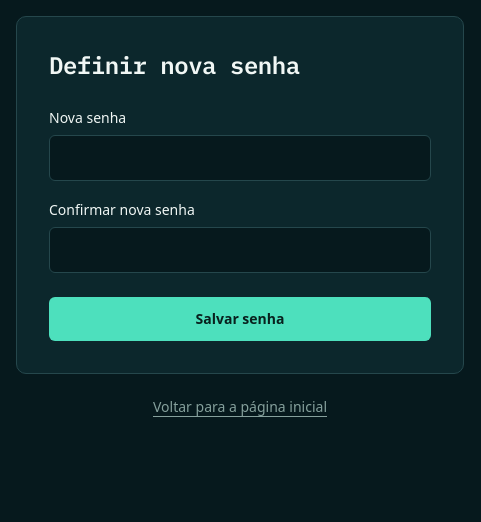
Test: ResetPassword › shows a generic error when the password update fails
The width and height of the screenshot is (481, 522).
Type "nova-senha-123" into the password field labelled "Nova senha" at (240, 158), box x1=49 y1=135 x2=431 y2=181
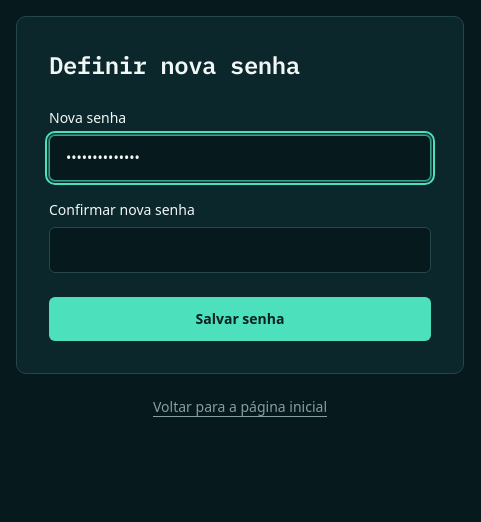
Type "nova-senha-123" into the password field labelled "Confirmar nova senha" at (240, 250), box x1=49 y1=227 x2=431 y2=273
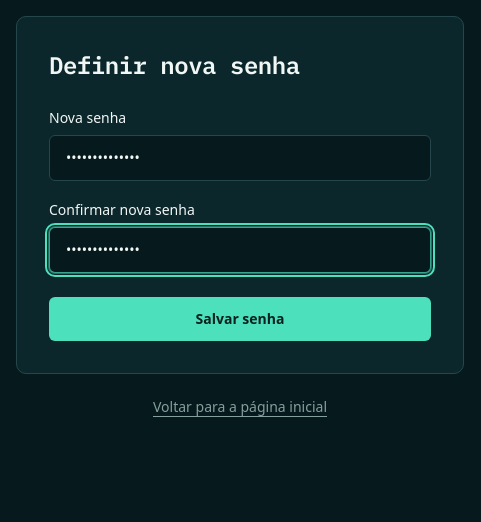
Click the button "Salvar senha" at (240, 319), box x1=49 y1=297 x2=431 y2=341
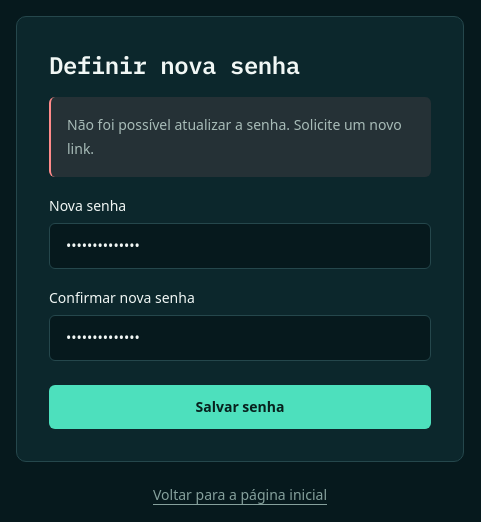
Now the text "Não foi possível atualizar a senha. Solicite um novo link." is shown, box x1=49 y1=97 x2=431 y2=177
